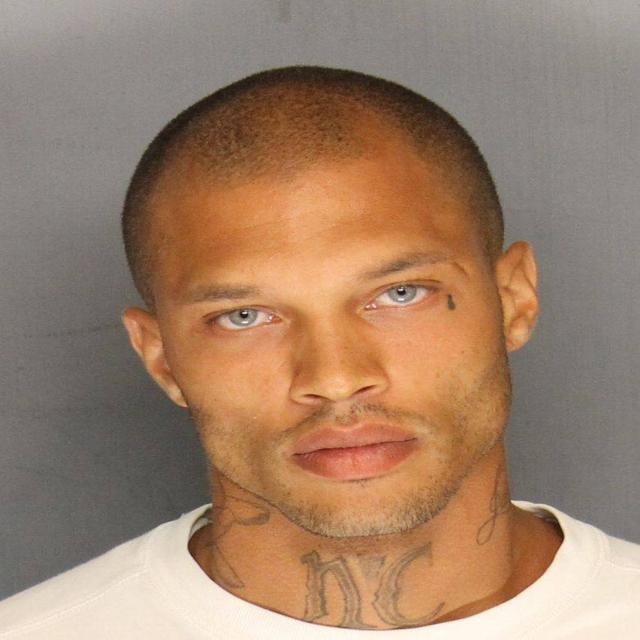no_helmet: (94, 38, 540, 341)
